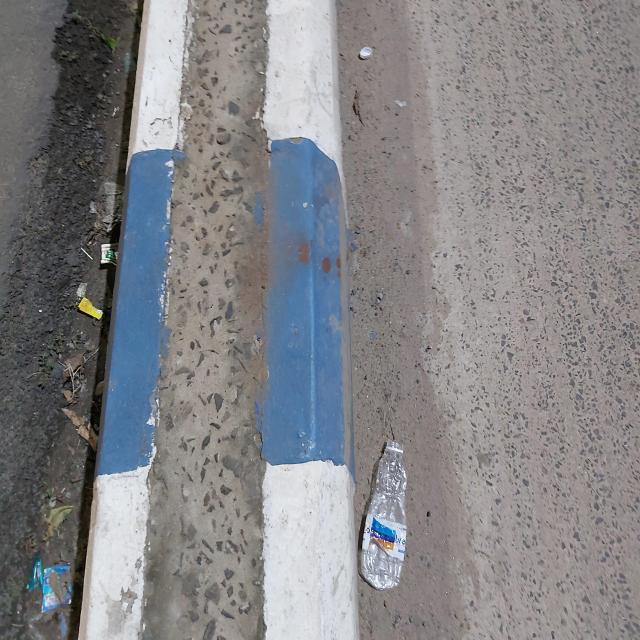bottle: (359, 430, 409, 590)
